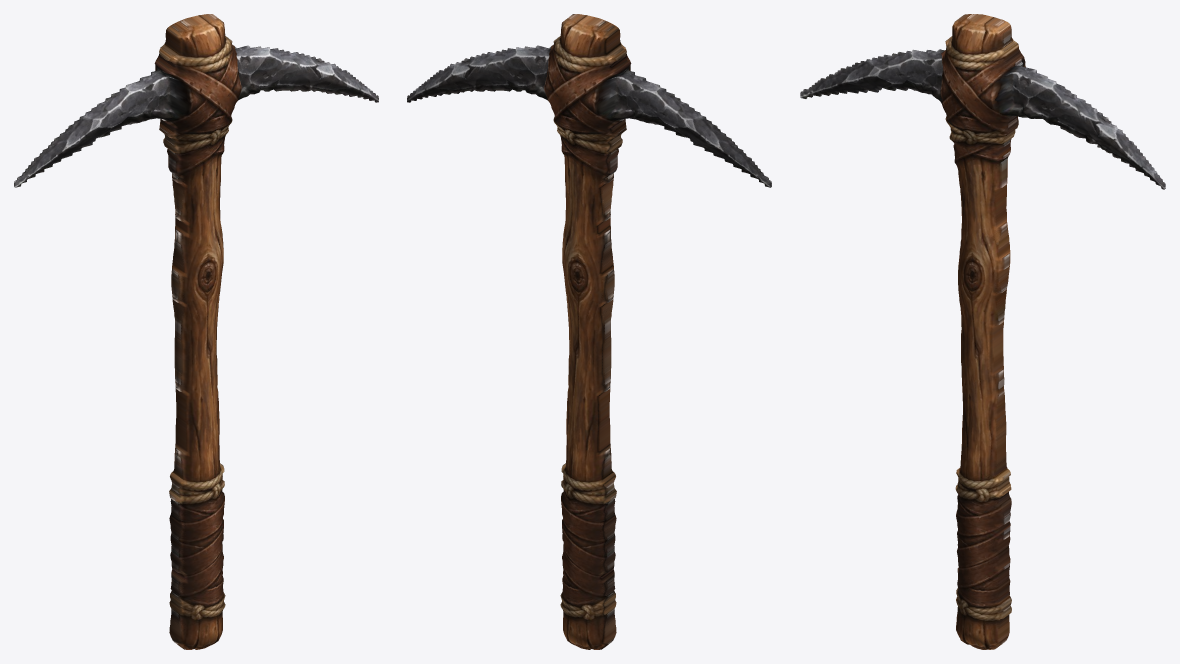
File: Metallspitzhacke.glb
The picture shows the model from 3 angles, left to right: view 1: azimuth 30°, elevation 25°; view 2: azimuth 150°, elevation 25°; view 3: azimuth 330°, elevation 25°; orthographic projection.
Parts seen in each view (by area): view 1: Metallspitzhacke; view 2: Metallspitzhacke; view 3: Metallspitzhacke.
Part boxes in pixels (x1,y1,x2,y2): Metallspitzhacke: [14, 14, 378, 649]; Metallspitzhacke: [407, 14, 771, 649]; Metallspitzhacke: [800, 14, 1165, 649].
Bounding box in the file's own units: 0.4331 × 0.7127 × 0.0847.
Materials: 1 (1 with a texture image).
